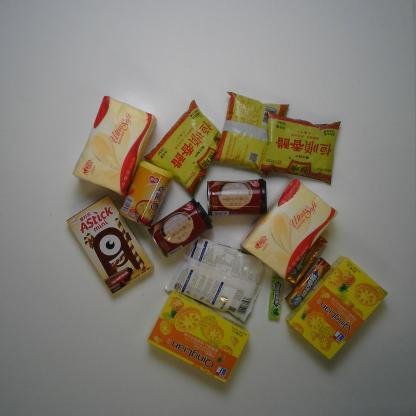Candy: (283, 257, 333, 311), (286, 234, 328, 287)
Canned Food: (145, 194, 213, 258), (118, 156, 173, 229), (201, 177, 269, 219)
Dessert: (284, 254, 390, 362), (145, 288, 252, 386), (64, 193, 156, 296)
Gum: (268, 275, 283, 324)
Seasoner: (164, 234, 271, 325), (142, 98, 225, 198), (209, 90, 290, 178), (256, 110, 341, 186)
Tissue: (239, 176, 340, 281), (71, 95, 157, 198)
